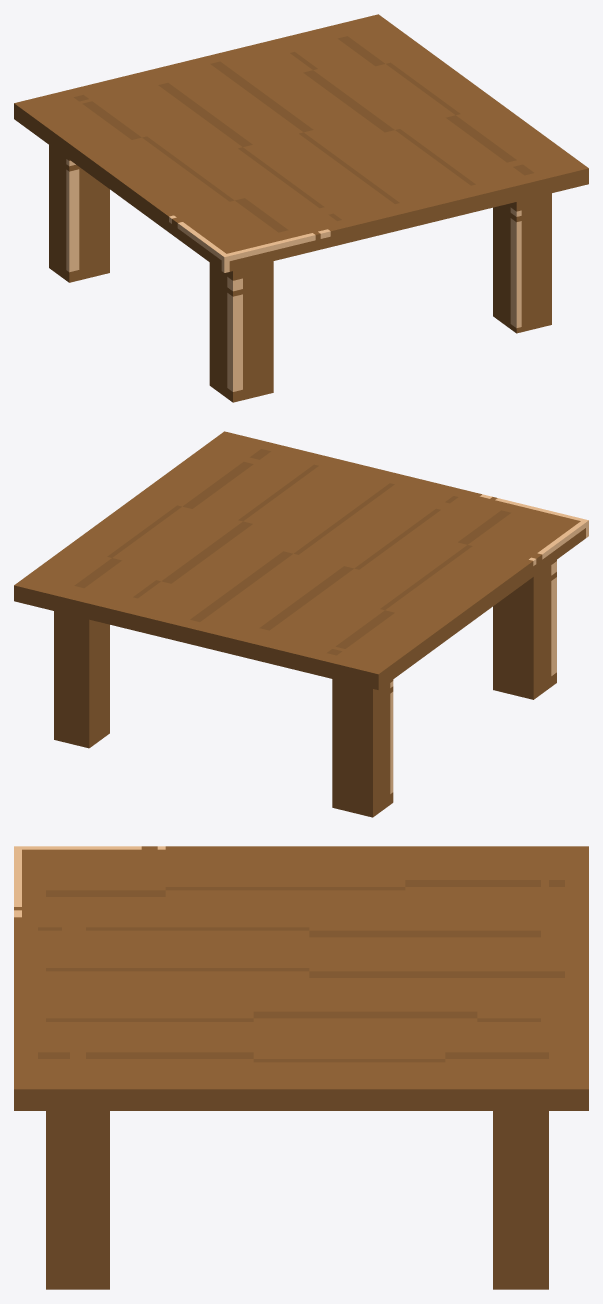
File: house-table.obj
The picture shows the model from 3 angles, top to bottom: view 1: azimuth 30°, elevation 25°; view 2: azimuth 150°, elevation 25°; view 3: azimuth 270°, elevation 25°; orthographic projection. The views are drawn at different scales.
Size of the model in its own units: 7.2 by 3 by 7.2.
1 material, 1 textured.
